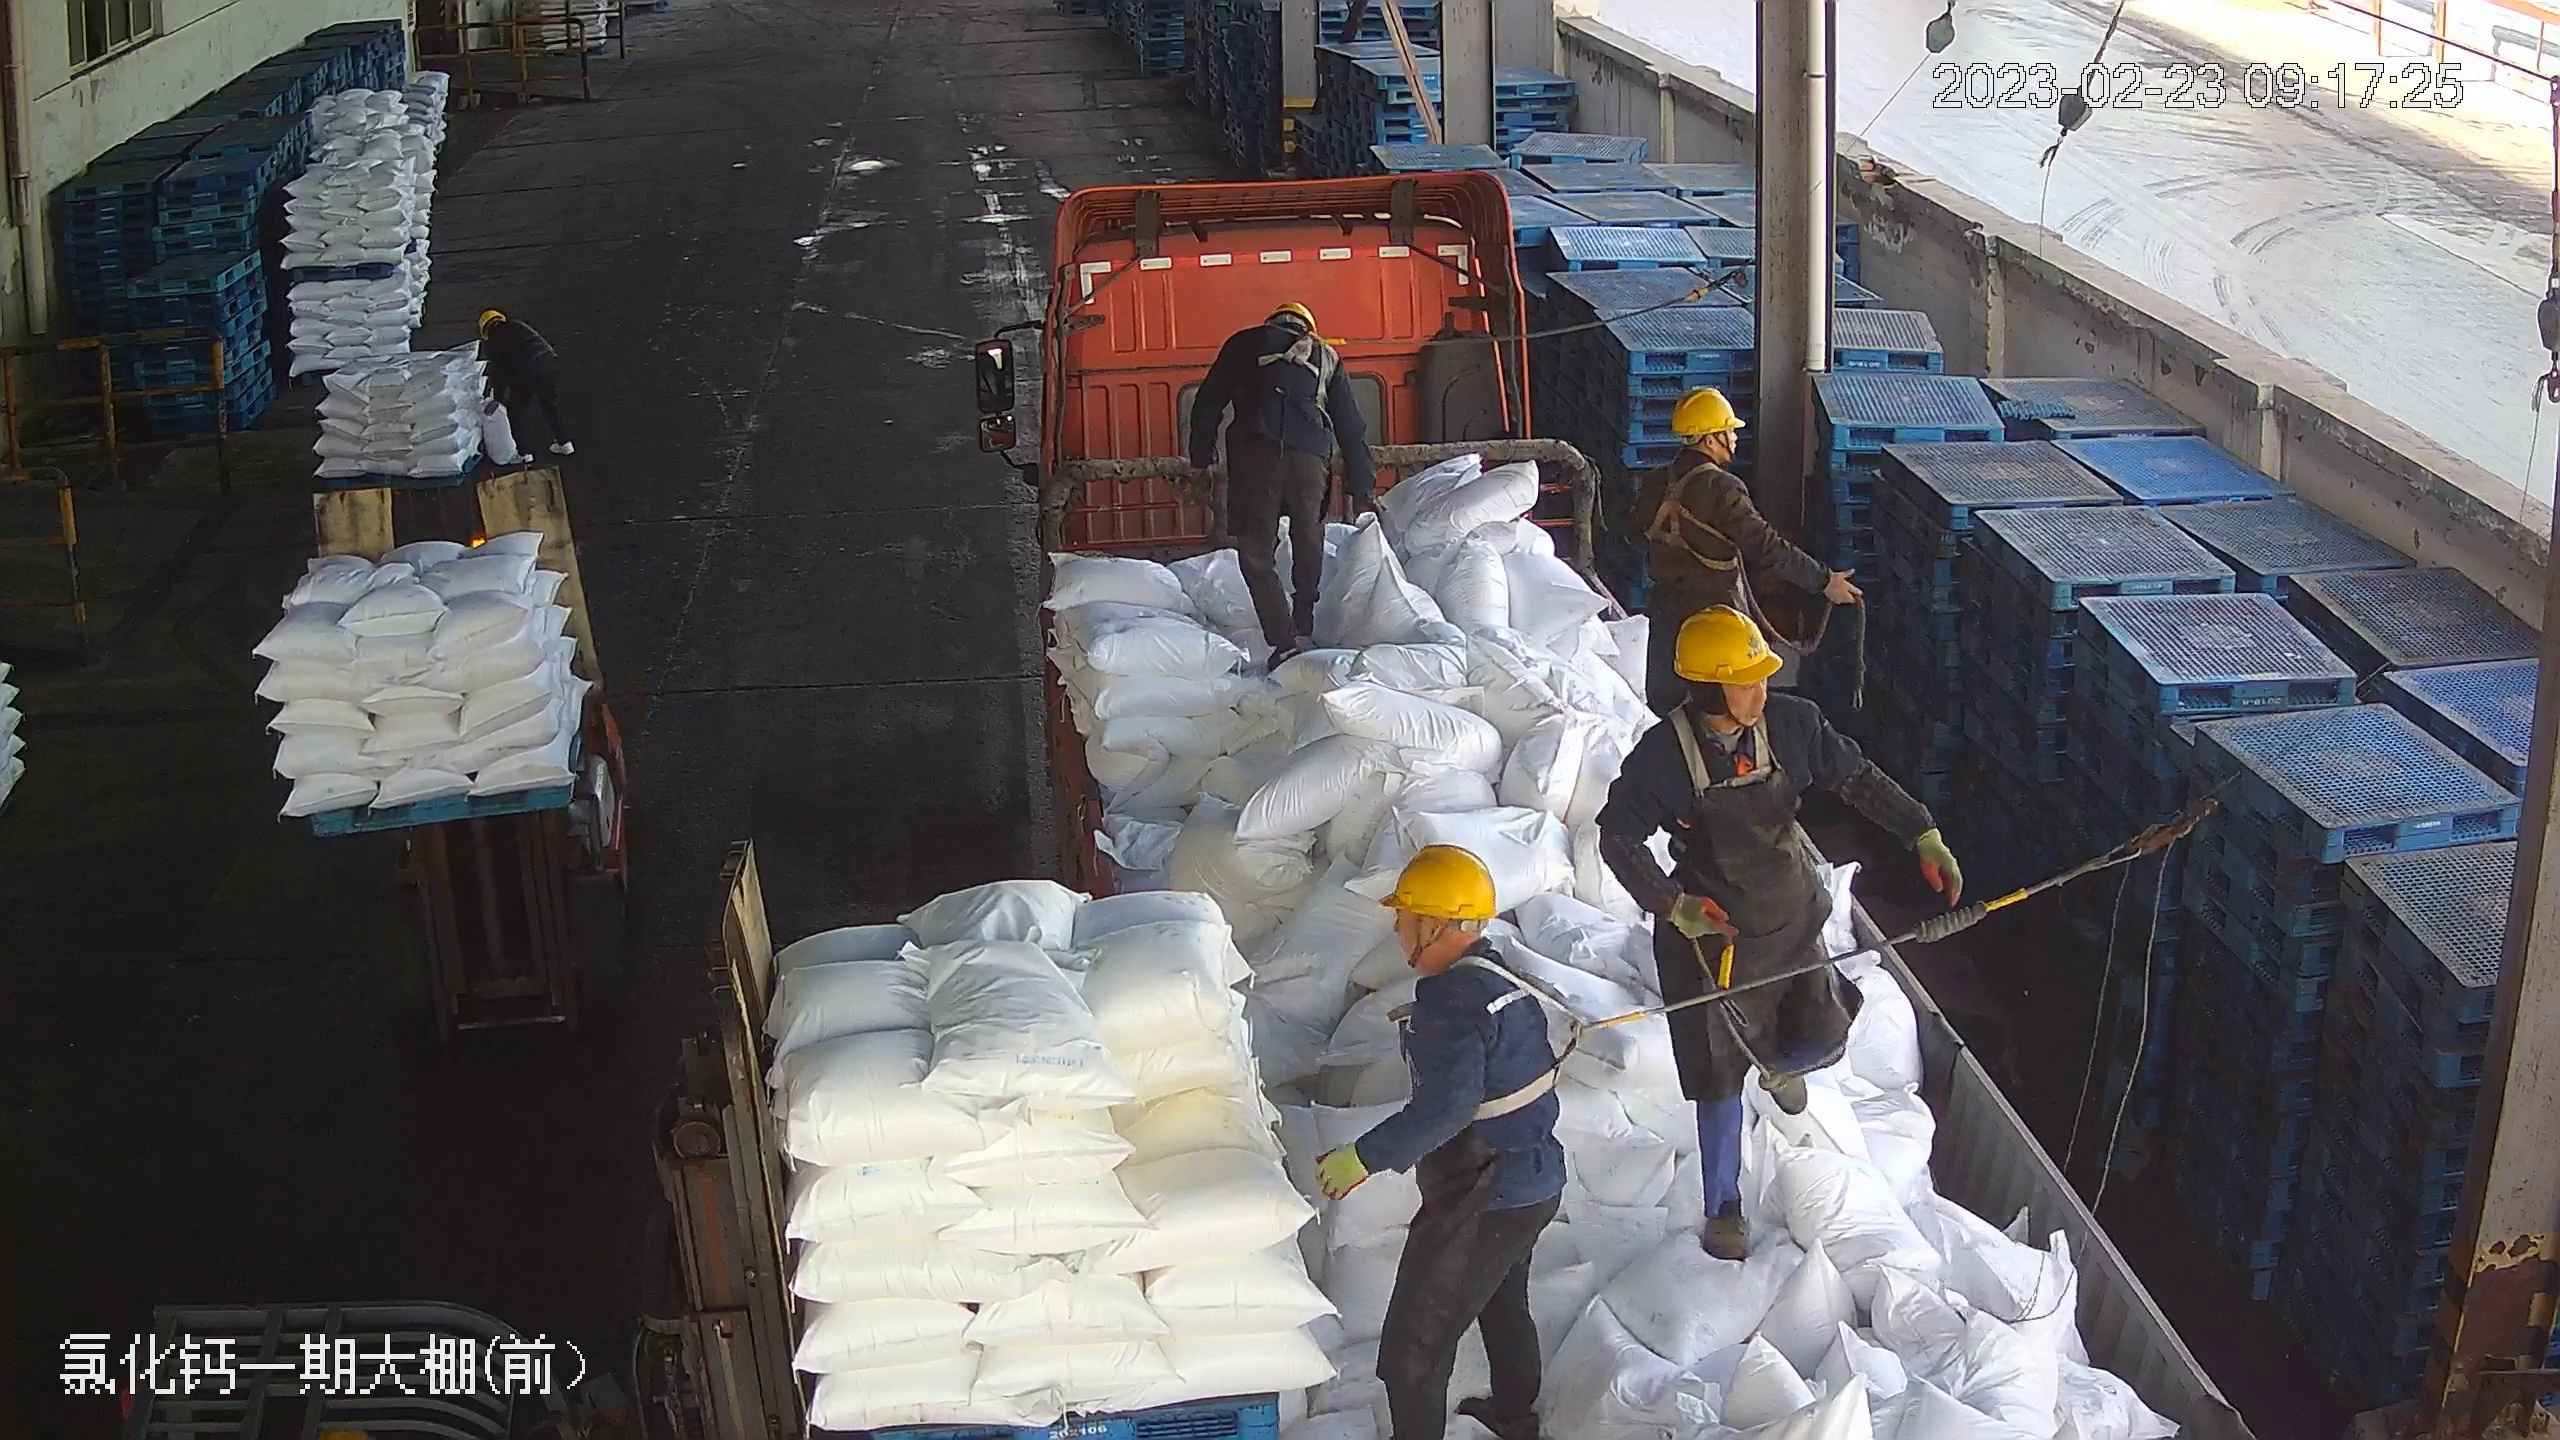belt: (1439, 965, 1650, 1124), (1663, 692, 1782, 803), (1646, 460, 1740, 561), (1262, 324, 1347, 390)
head: (1356, 842, 1548, 1060), (1625, 603, 1819, 809), (1647, 386, 1762, 515), (1243, 299, 1350, 386), (471, 303, 536, 357)
helmet: (1378, 843, 1503, 921), (1667, 602, 1786, 682), (1666, 383, 1742, 435), (475, 304, 507, 332)
people: (1601, 601, 1969, 1270), (1303, 840, 1576, 1440), (1185, 293, 1382, 671), (1632, 386, 1838, 696), (468, 299, 574, 471)
truck: (953, 151, 2272, 1440)
